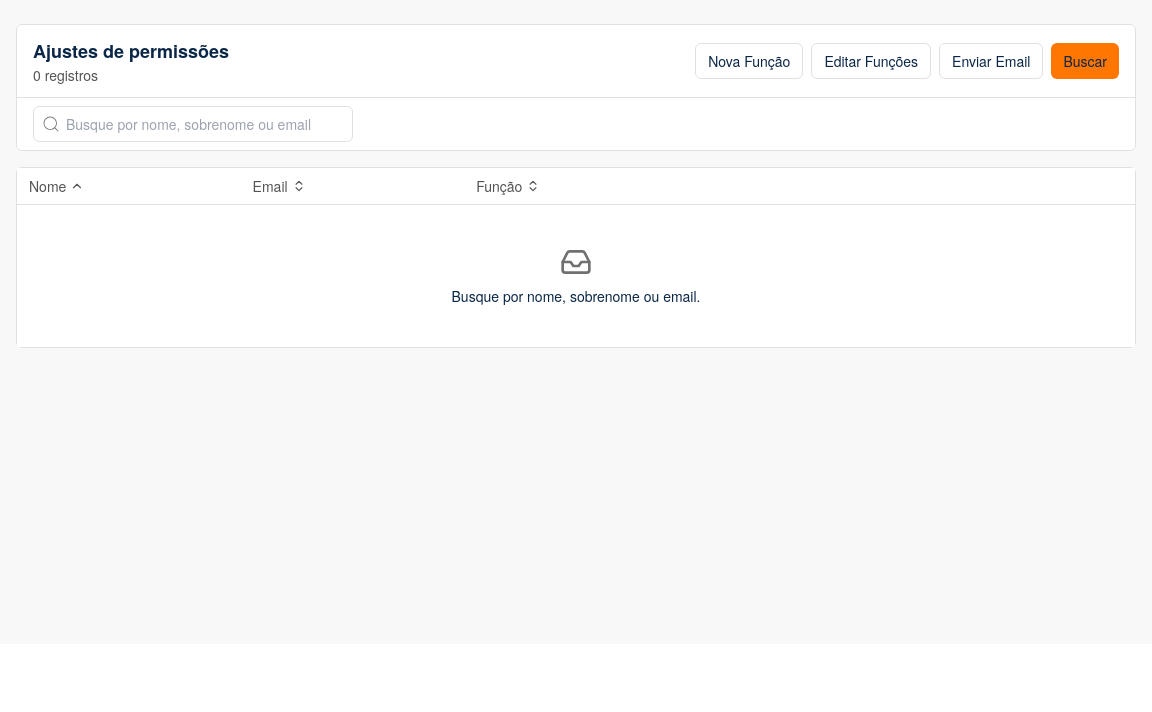
DashRoles no DashListTemplate (usuários 03) › ⚠️ clicar no usuário abre o modal do usuário, não a troca de função (card 05)
Click the button "Buscar". click: (1085, 61)
box: [1051,43,1119,79]
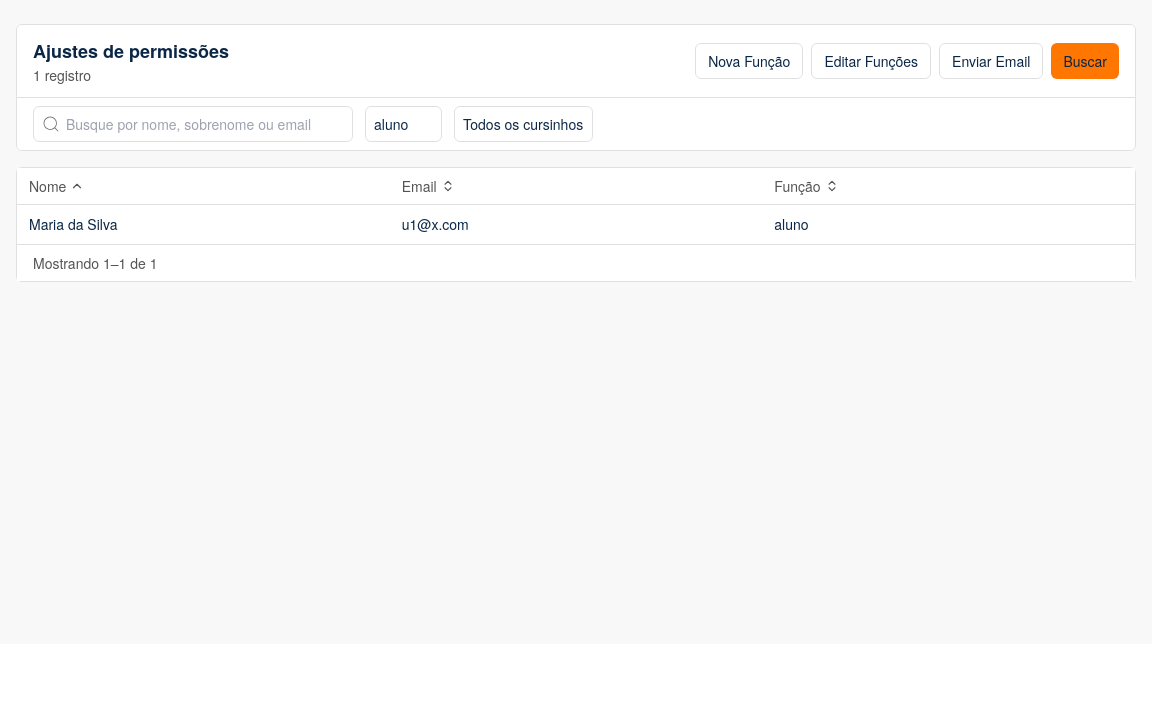
Click the text "u1@x.com". click: (435, 224)
box: [402,214,469,234]
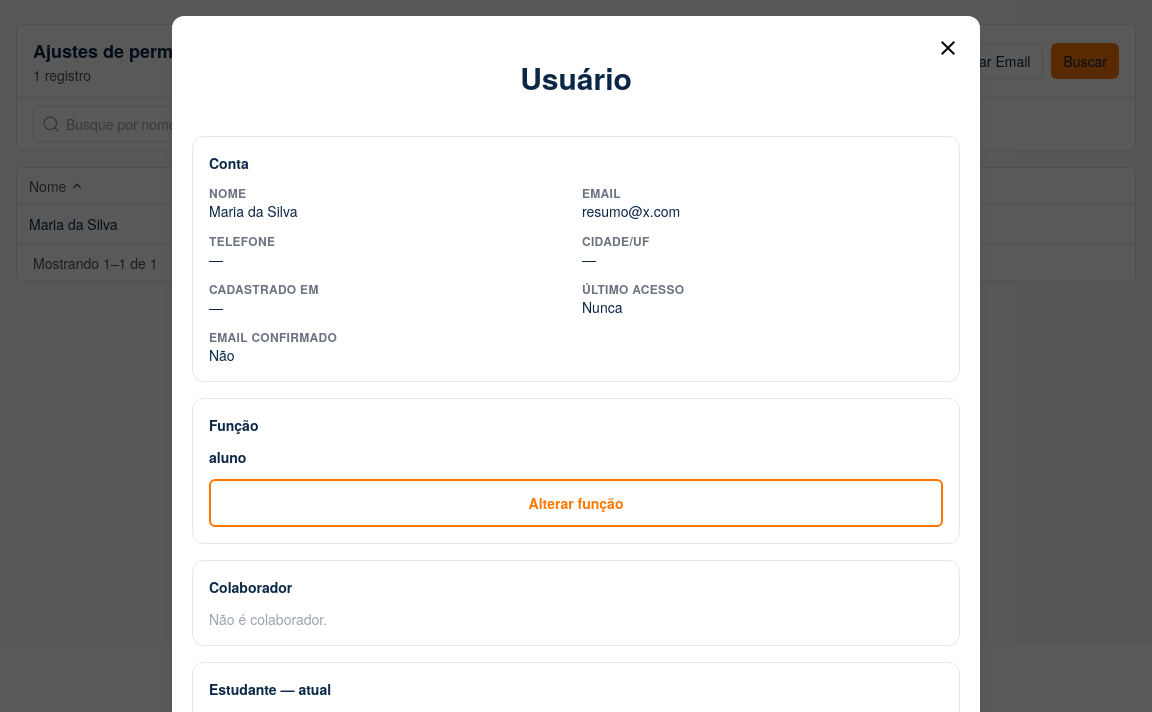
Now the text "resumo@x.com" is shown, box [582,201,680,221]
